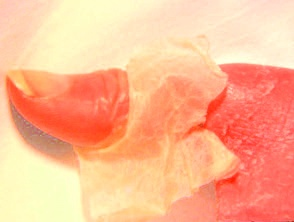SJS-TEN: (0, 28, 294, 222)
